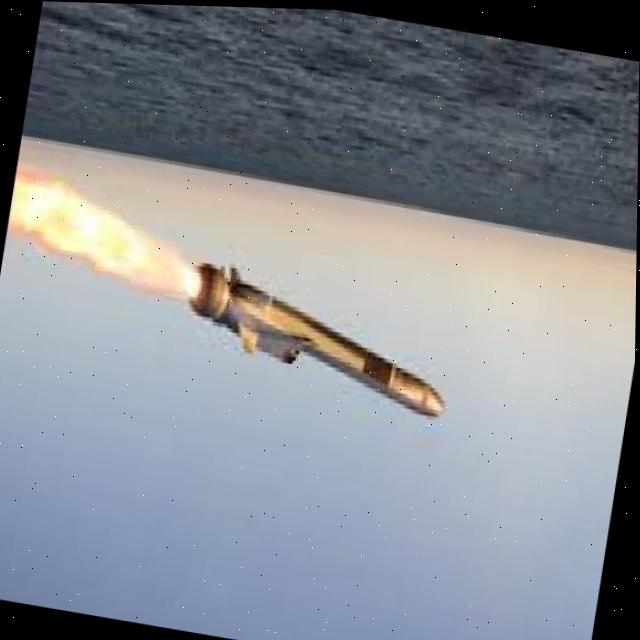missile: (175, 259, 468, 426)
